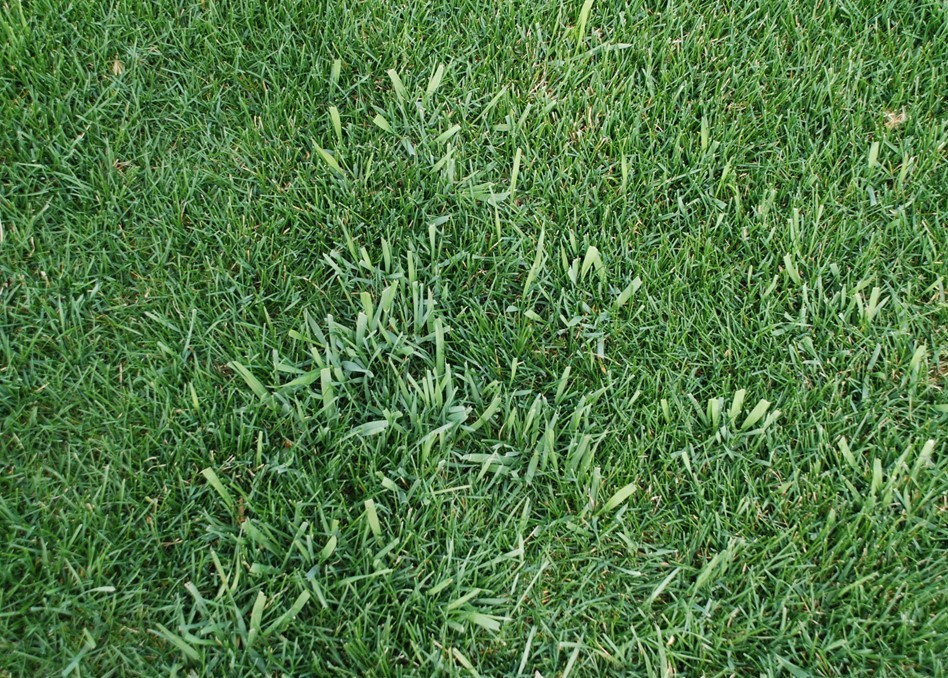crabgrass: (291, 278, 455, 414), (137, 554, 305, 651), (483, 384, 613, 506), (793, 237, 920, 356), (394, 62, 507, 193), (682, 376, 794, 452), (841, 436, 933, 504)
